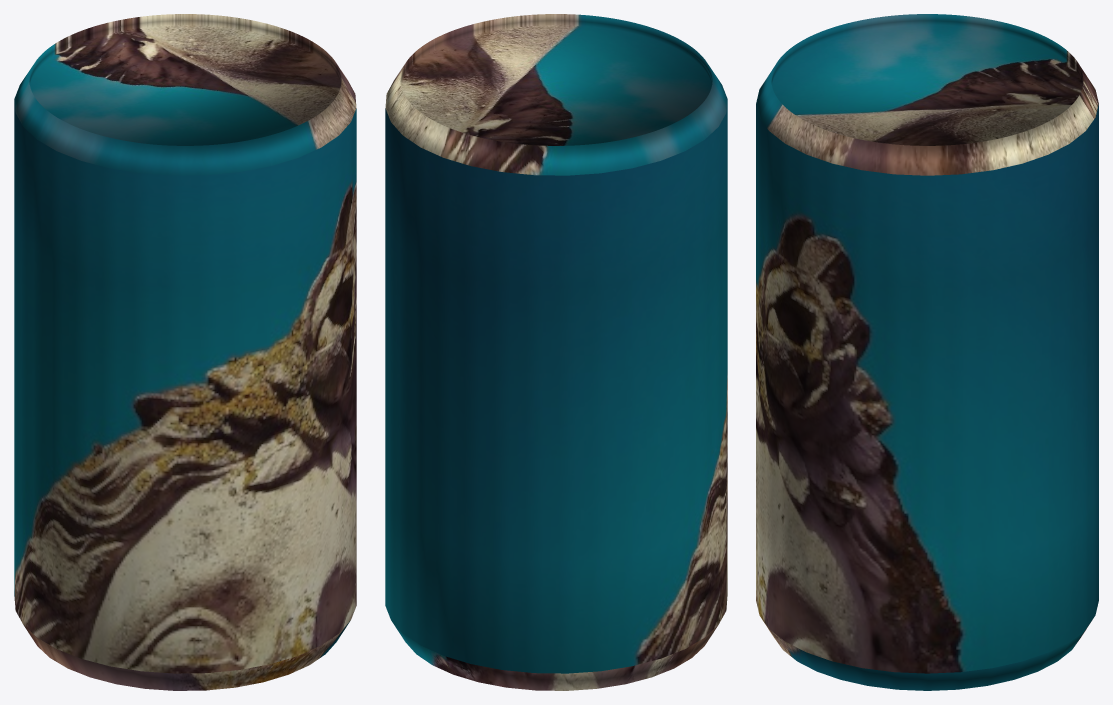
File: viking_room.obj
3 renders of one model, left to right at view 1: azimuth 30°, elevation 25°; view 2: azimuth 150°, elevation 25°; view 3: azimuth 270°, elevation 25°, orthographic.
Visible parts, largest first — view 1: Cylinder; view 2: Cylinder; view 3: Cylinder.
Part boxes in pixels (left/top/right/bottom): Cylinder: left=14, top=14, right=356, bottom=690; Cylinder: left=385, top=14, right=727, bottom=690; Cylinder: left=756, top=14, right=1098, bottom=690.
Size of the model in its own units: 2 by 3.51 by 2.
